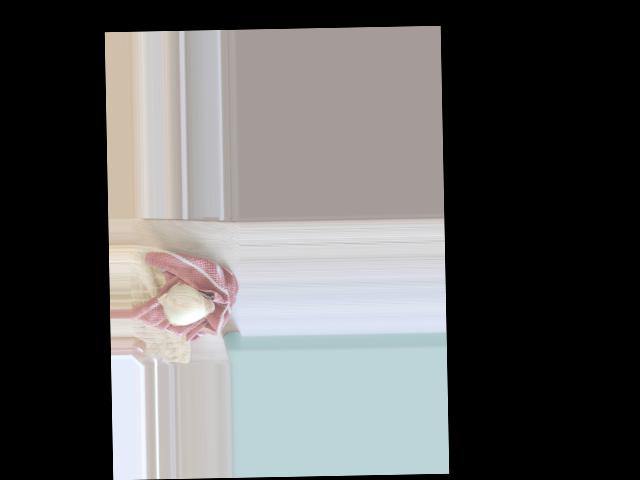onion: (161, 281, 211, 329)
